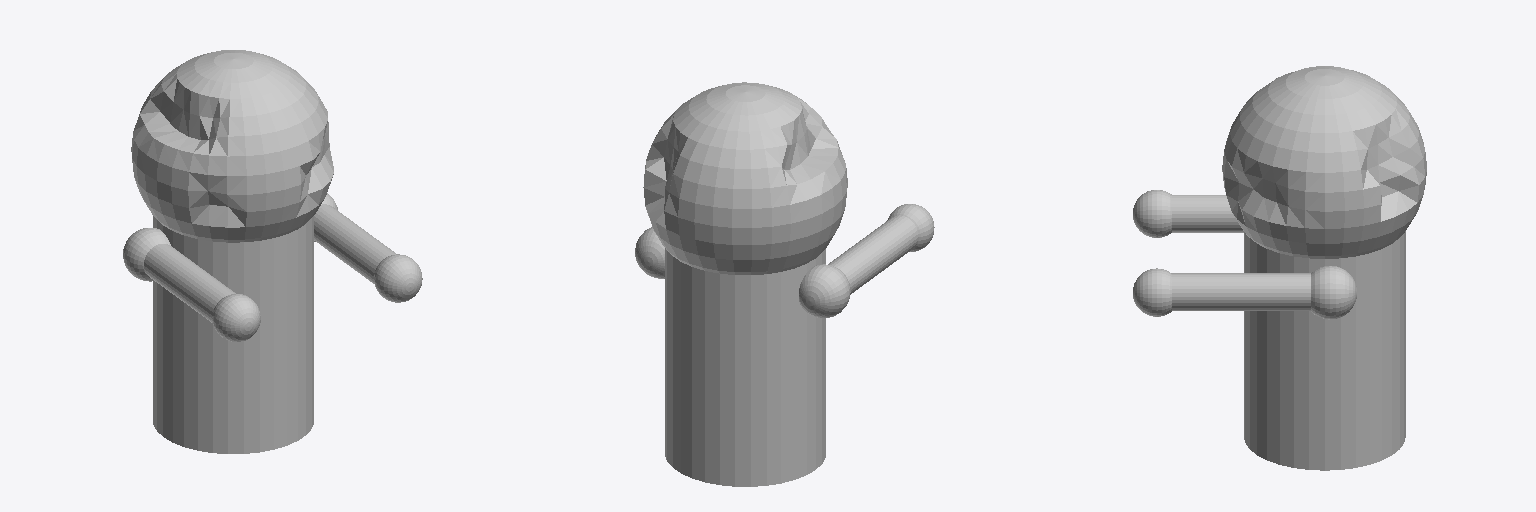
Rendered from zombie.obj.
3 renders of one model, left to right at view 1: azimuth 30°, elevation 25°; view 2: azimuth 150°, elevation 25°; view 3: azimuth 270°, elevation 25°, orthographic.
Parts seen in each view (by area): view 1: Sphere, Cylinder, Cylinder.001, Cylinder.002, Sphere.003, Sphere.002, Sphere.001; view 2: Cylinder, Sphere, Cylinder.001, Sphere.001, Sphere.004, Sphere.002; view 3: Sphere, Cylinder, Cylinder.002, Cylinder.001, Sphere.004, Sphere.003, Sphere.002.
Boxes of the visible parts, x1,y1,x2,y2 form: Sphere: [131, 50, 333, 242]; Cylinder: [153, 216, 313, 453]; Cylinder.001: [144, 244, 235, 322]; Cylinder.002: [314, 204, 395, 283]; Sphere.003: [374, 254, 422, 302]; Sphere.002: [212, 294, 260, 341]; Sphere.001: [123, 228, 170, 281]; Cylinder: [665, 248, 825, 486]; Sphere: [643, 82, 847, 274]; Cylinder.001: [828, 215, 918, 294]; Sphere.001: [799, 264, 850, 317]; Sphere.004: [635, 227, 664, 278]; Sphere.002: [887, 204, 934, 251]; Sphere: [1222, 66, 1426, 258]; Cylinder: [1244, 231, 1405, 470]; Cylinder.002: [1171, 273, 1310, 310]; Cylinder.001: [1171, 195, 1243, 232]; Sphere.004: [1311, 266, 1356, 319]; Sphere.003: [1133, 268, 1171, 316]; Sphere.002: [1133, 190, 1171, 237].
Bounding box in the file's own units: 1.49 × 2.46 × 1.82.